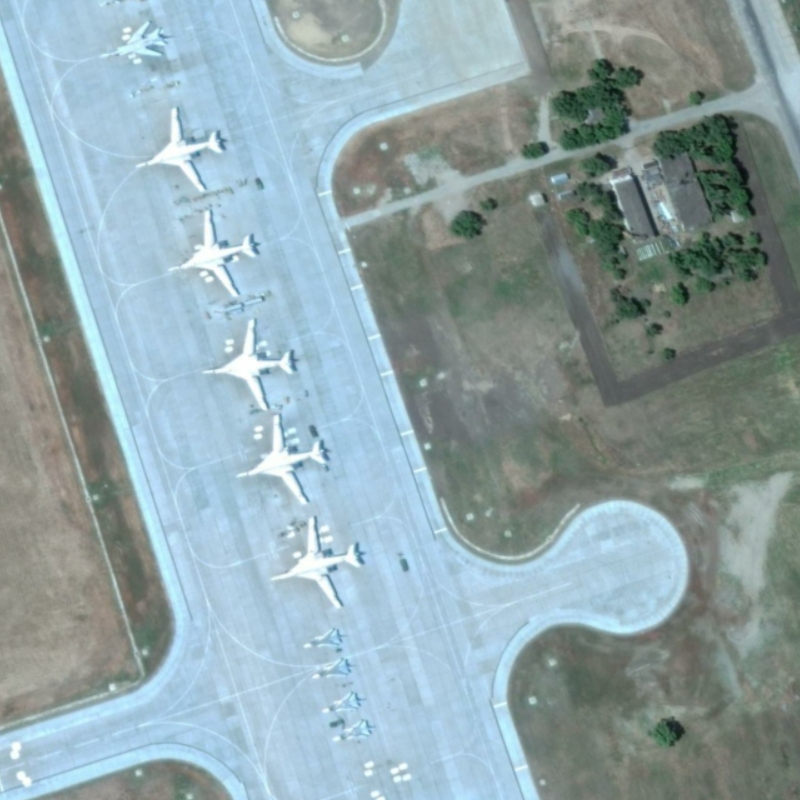A12: (96, 18, 170, 63)
A20: (307, 654, 356, 680), (327, 718, 376, 744), (319, 688, 365, 714), (299, 625, 344, 650)
A6: (263, 511, 368, 614), (195, 315, 301, 414), (232, 411, 336, 507), (161, 205, 261, 301), (132, 102, 226, 196)
